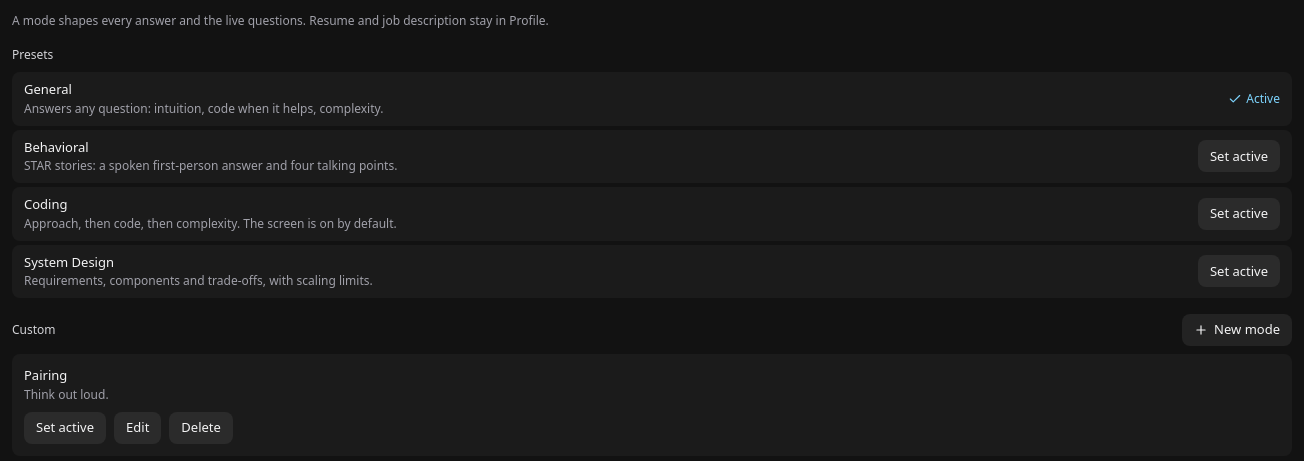
Test: Modes tab › deletes a custom mode
Click the button "Delete": (201, 428) [169, 412, 233, 444]
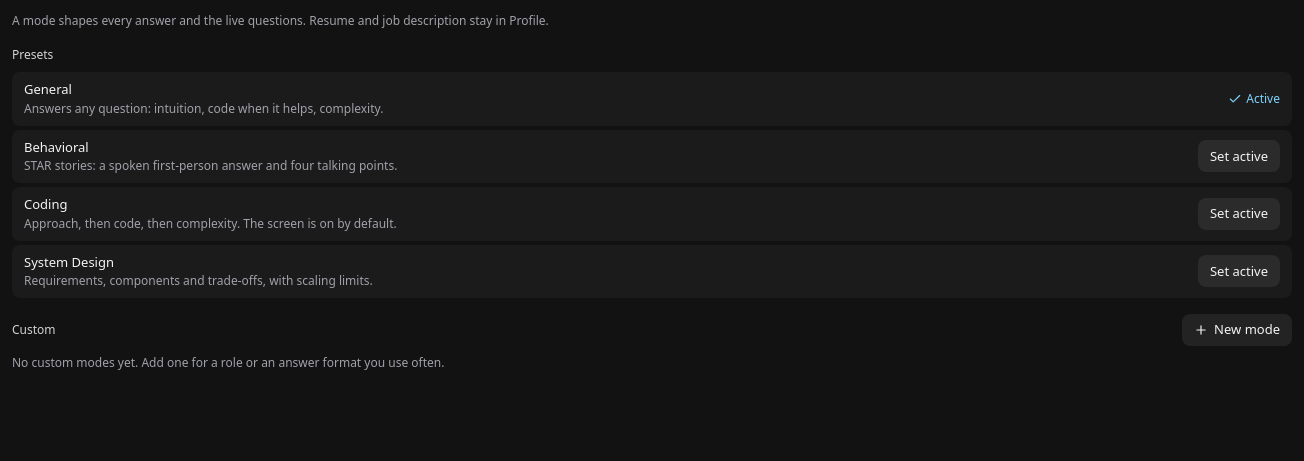
Now the text "Pairing" is gone
